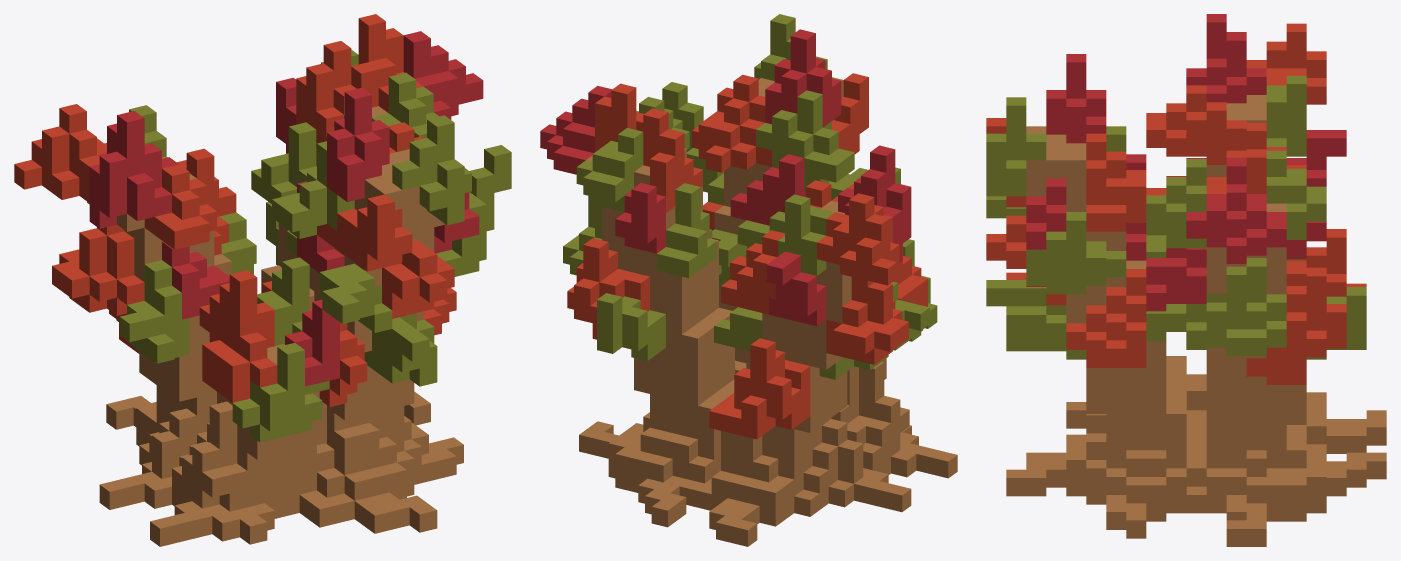
Rendered from Yuri_Alexandra_Castañeda_Montaño_fase_3.obj.
3 views of the same model, side by side, from view 1: azimuth 30°, elevation 25°; view 2: azimuth 150°, elevation 25°; view 3: azimuth 270°, elevation 25° (orthographic). The views are drawn at different scales.
Visible parts, largest first — view 1: Yuri_Alexandra_Castañeda_Montaño_fase_3; view 2: Yuri_Alexandra_Castañeda_Montaño_fase_3; view 3: Yuri_Alexandra_Castañeda_Montaño_fase_3.
Part boxes in pixels (x1=…): Yuri_Alexandra_Castañeda_Montaño_fase_3: x1=14, y1=14, x2=511, y2=546; Yuri_Alexandra_Castañeda_Montaño_fase_3: x1=540, y1=14, x2=957, y2=546; Yuri_Alexandra_Castañeda_Montaño_fase_3: x1=986, y1=14, x2=1386, y2=546.
Size of the model in its own units: 24 by 23 by 20.
1 material, 1 textured.
